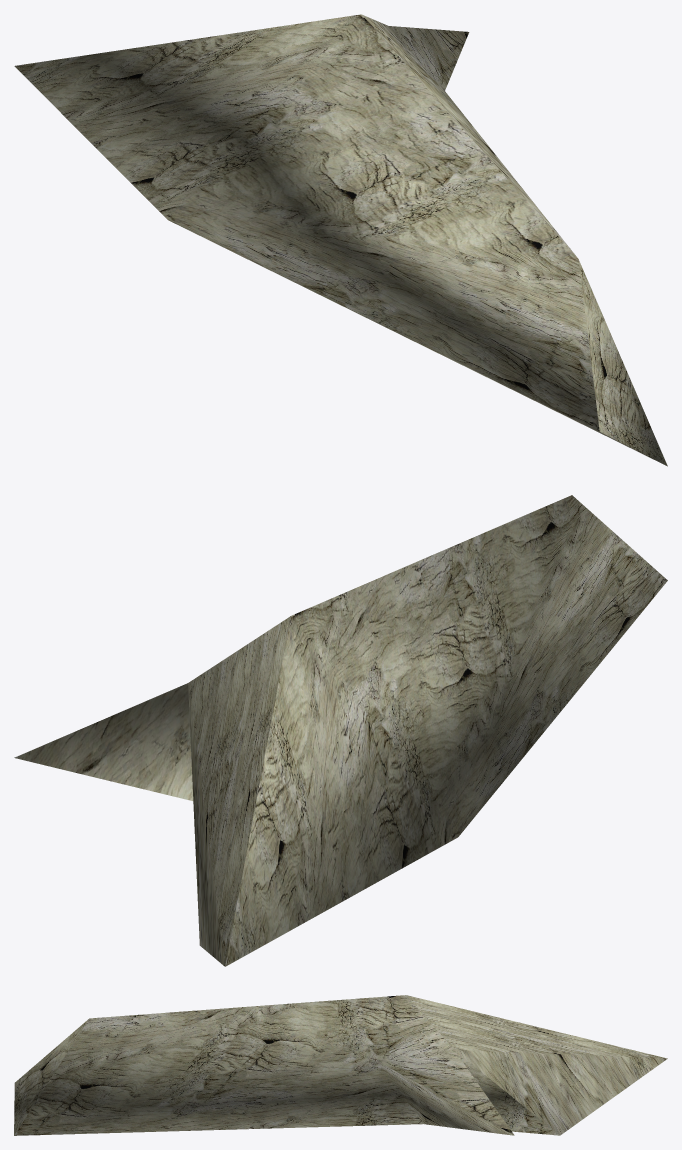
File: shor_driftwood_massassi_lg_l3.fbx
3 renders of one model, top to bottom at view 1: azimuth 30°, elevation 25°; view 2: azimuth 150°, elevation 25°; view 3: azimuth 270°, elevation 25°, orthographic. The views are drawn at different scales.
Visible parts, largest first — view 1: mesh_node; view 2: mesh_node; view 3: mesh_node.
Part boxes in pixels (x1,y1,x2,y2): mesh_node: [14, 14, 667, 466]; mesh_node: [14, 495, 667, 966]; mesh_node: [14, 995, 667, 1135].
Bounding box in the file's own units: 2.84 × 1.71 × 6.78.
